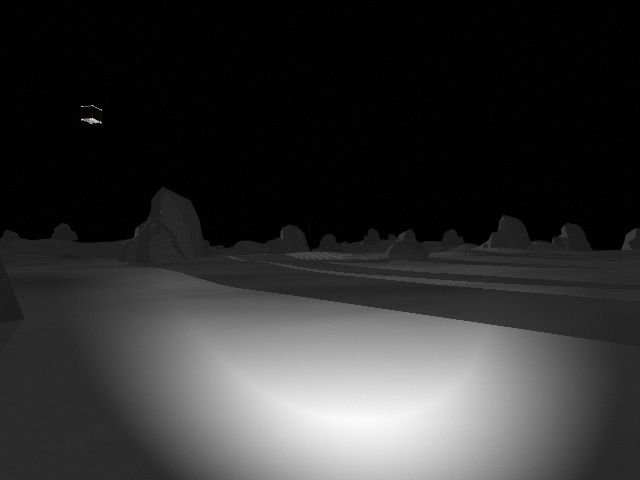cubesat: (76, 99, 106, 128)
